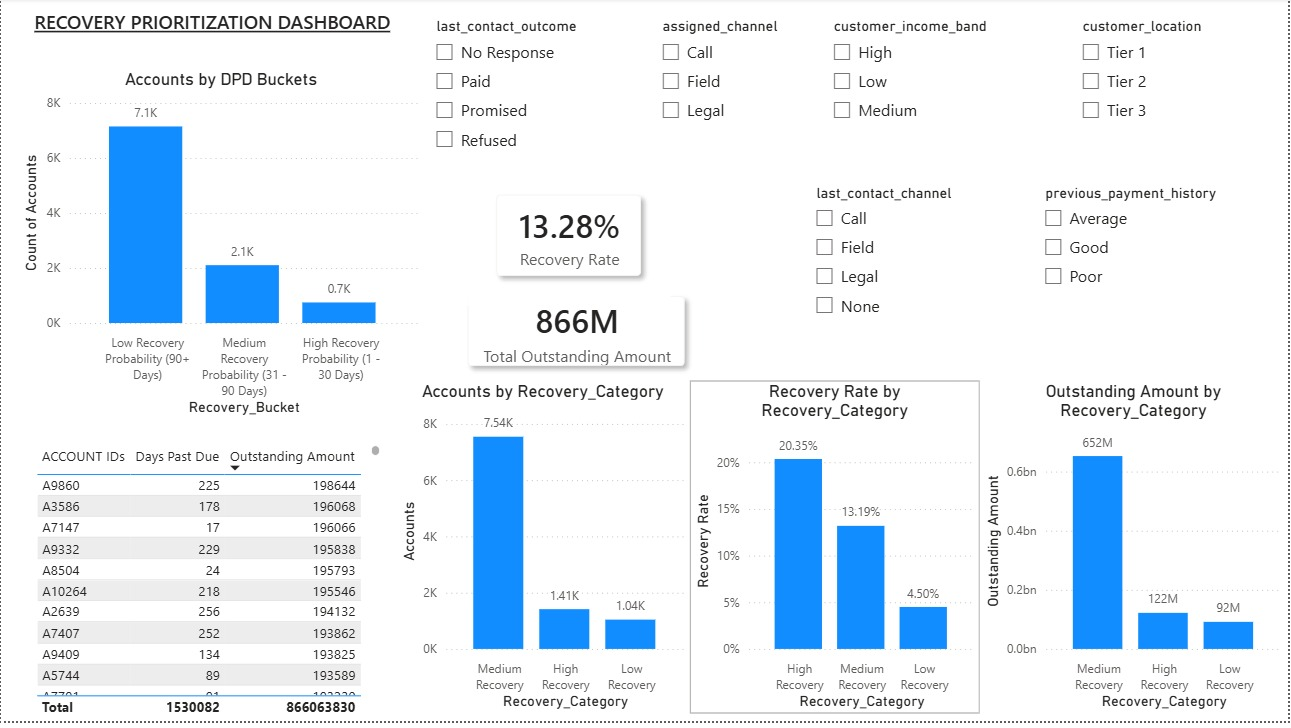

The page's visual inventory and layout, read from the dashboard file:
{"tool":"powerbi","page":{"name":"RECOVERY PRIORITIZATION DASHBOARD","canvas":[1280,720],"ordinal":0},"visuals":[{"type":"slicer","fields":{"Values":["shaha_finlease_dataset_10000 (2).assigned_channel"]},"box":[645.6,14.9,170.4,151.8],"z":0},{"type":"slicer","fields":{"Values":["shaha_finlease_dataset_10000 (2).last_contact_outcome"]},"box":[420.5,14.9,202.8,151.8],"z":1000},{"type":"slicer","fields":{"Values":["shaha_finlease_dataset_10000 (2).last_contact_channel"]},"box":[798.6,180.4,200.3,151.8],"z":2000},{"type":"slicer","fields":{"Values":["shaha_finlease_dataset_10000 (2).previous_payment_history"]},"box":[1026.3,180.4,212.7,151.8],"z":3000},{"type":"slicer","fields":{"Values":["shaha_finlease_dataset_10000 (2).customer_income_band"]},"box":[816,14.9,210.2,151.8],"z":4000},{"type":"slicer","fields":{"Values":["shaha_finlease_dataset_10000 (2).customer_location"]},"box":[1063.6,14.9,175.4,151.8],"z":5000},{"type":"textbox","box":[0,6.2,420.5,64.7],"z":6000},{"type":"clusteredColumnChart","title":"Accounts by DPD Buckets","fields":{"Category":["shaha_finlease_dataset_10000 (2).Recovery_Bucket"],"Y":["CountNonNull(shaha_finlease_dataset_10000 (2).account_id)"]},"box":[17.4,70.9,403,349.6],"z":7000},{"type":"tableEx","fields":{"Values":["shaha_finlease_dataset_10000 (2).account_id","Sum(shaha_finlease_dataset_10000 (2).days_past_due)","Sum(shaha_finlease_dataset_10000 (2).outstanding_amount)"]},"box":[29.9,440.4,352,279.9],"z":8000},{"type":"cardVisual","fields":{"Data":["Sum(shaha_finlease_dataset_10000 (2).outstanding_amount)"]},"box":[435.4,267.5,274.9,128.1],"z":9000},{"type":"cardVisual","fields":{"Data":["shaha_finlease_dataset_10000 (2).Recovery Rate"]},"box":[464,166.7,202.8,139.3],"z":10000},{"type":"clusteredColumnChart","fields":{"Y":["shaha_finlease_dataset_10000 (2).Recovery Rate"],"Category":["shaha_finlease_dataset_10000 (2).Recovery_Category"]},"box":[685.4,380.7,288.6,332.1],"z":11000},{"type":"clusteredColumnChart","fields":{"Category":["shaha_finlease_dataset_10000 (2).Recovery_Category"],"Y":["Sum(shaha_finlease_dataset_10000 (2).outstanding_amount)"]},"box":[974,380.7,306,332.1],"z":12000},{"type":"clusteredColumnChart","fields":{"Category":["shaha_finlease_dataset_10000 (2).Recovery_Category"],"Y":["CountNonNull(shaha_finlease_dataset_10000 (2).account_id)"]},"box":[393.1,380.7,292.3,332.1],"z":13000}]}

Visuals, with their boxes in screenshot pixels (x1, y1, x2, y2), scaled from the page's 1280x720 canvas onto the 1291x728 screenshot:
slicer - shaha_finlease_dataset_10000 (2).assigned_channel: Rect(651, 15, 823, 169)
slicer - shaha_finlease_dataset_10000 (2).last_contact_outcome: Rect(424, 15, 629, 169)
slicer - shaha_finlease_dataset_10000 (2).last_contact_channel: Rect(805, 182, 1007, 336)
slicer - shaha_finlease_dataset_10000 (2).previous_payment_history: Rect(1035, 182, 1250, 336)
slicer - shaha_finlease_dataset_10000 (2).customer_income_band: Rect(823, 15, 1035, 169)
slicer - shaha_finlease_dataset_10000 (2).customer_location: Rect(1073, 15, 1250, 169)
textbox: Rect(0, 6, 424, 72)
"Accounts by DPD Buckets" clusteredColumnChart: Rect(18, 72, 424, 425)
tableEx - shaha_finlease_dataset_10000 (2).account_id x Sum(shaha_finlease_dataset_10000 (2).days_past_due): Rect(30, 445, 385, 727)
cardVisual - Sum(shaha_finlease_dataset_10000 (2).outstanding_amount): Rect(439, 270, 716, 400)
cardVisual - shaha_finlease_dataset_10000 (2).Recovery Rate: Rect(468, 169, 673, 309)
clusteredColumnChart - shaha_finlease_dataset_10000 (2).Recovery Rate x shaha_finlease_dataset_10000 (2).Recovery_Category: Rect(691, 385, 982, 721)
clusteredColumnChart - shaha_finlease_dataset_10000 (2).Recovery_Category x Sum(shaha_finlease_dataset_10000 (2).outstanding_amount): Rect(982, 385, 1290, 721)
clusteredColumnChart - shaha_finlease_dataset_10000 (2).Recovery_Category x CountNonNull(shaha_finlease_dataset_10000 (2).account_id): Rect(396, 385, 691, 721)
